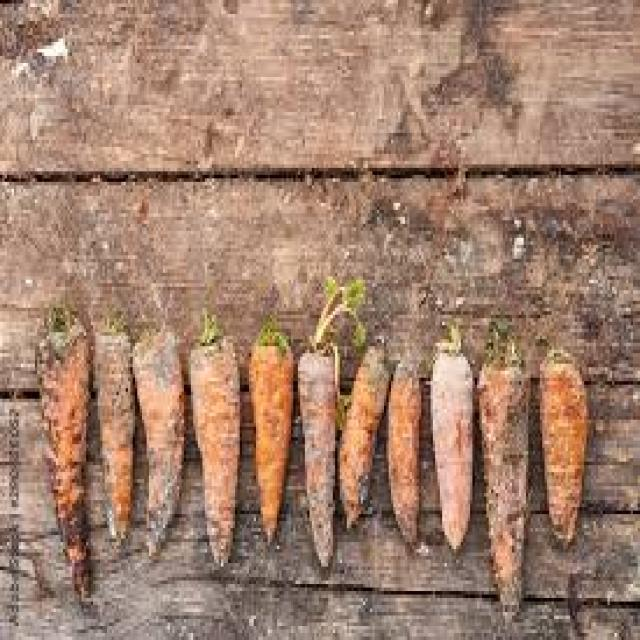Stale_Carrot: (36, 320, 97, 608), (479, 362, 530, 628), (293, 352, 340, 573), (344, 341, 394, 525)
